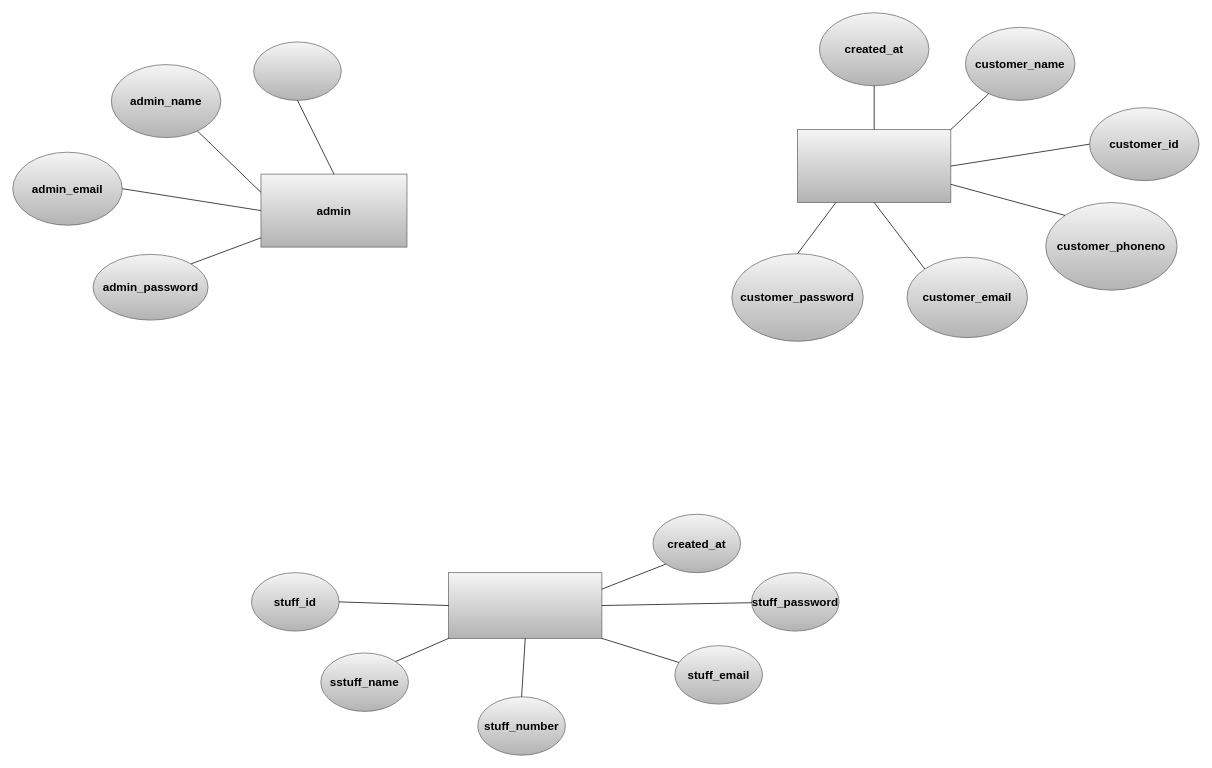
The diagram is 1212 pixels wide and 768 high, and some of its shapes have lost their labels. The centre of each missing label's shape, as x and y in pixels:
"admin_id" belongs at point 297,70.
"customer" belongs at point 874,166.
"stuff" belongs at point 525,605.
